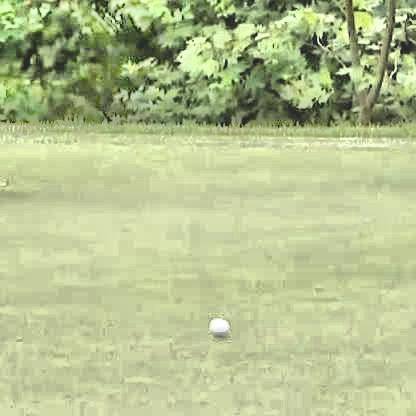golfball: (206, 313, 228, 336)
